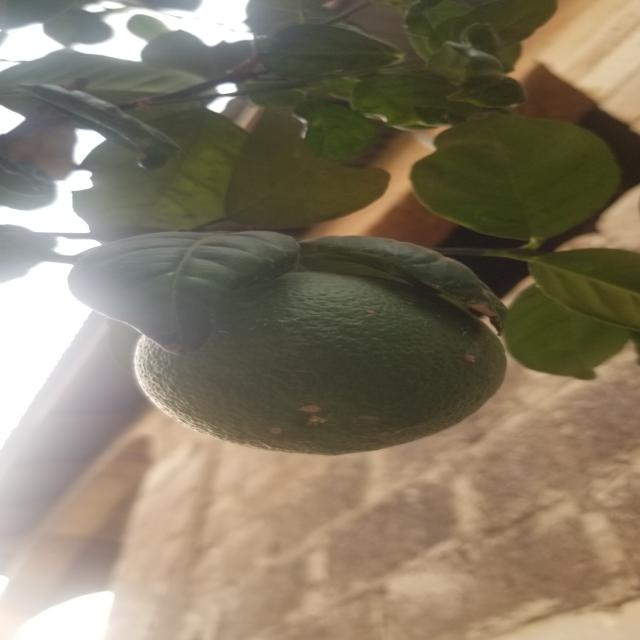agrume: (118, 274, 519, 474)
